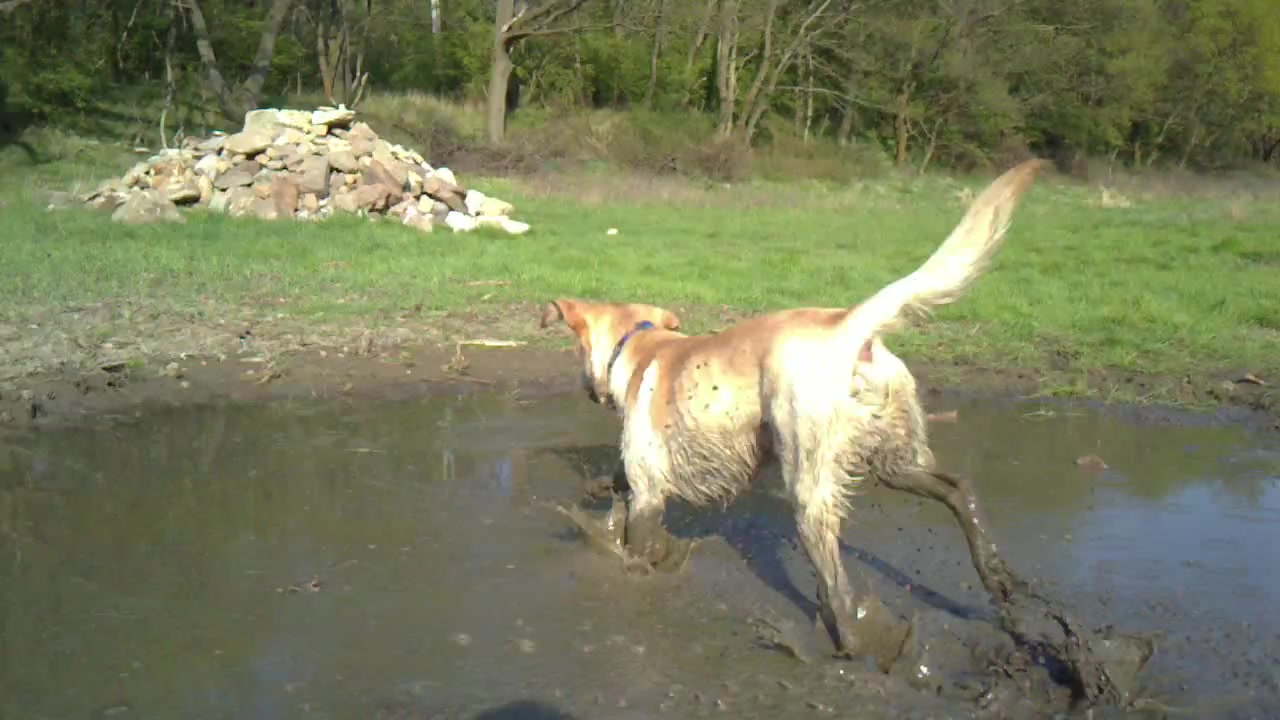dog: (540, 155, 1059, 661)
